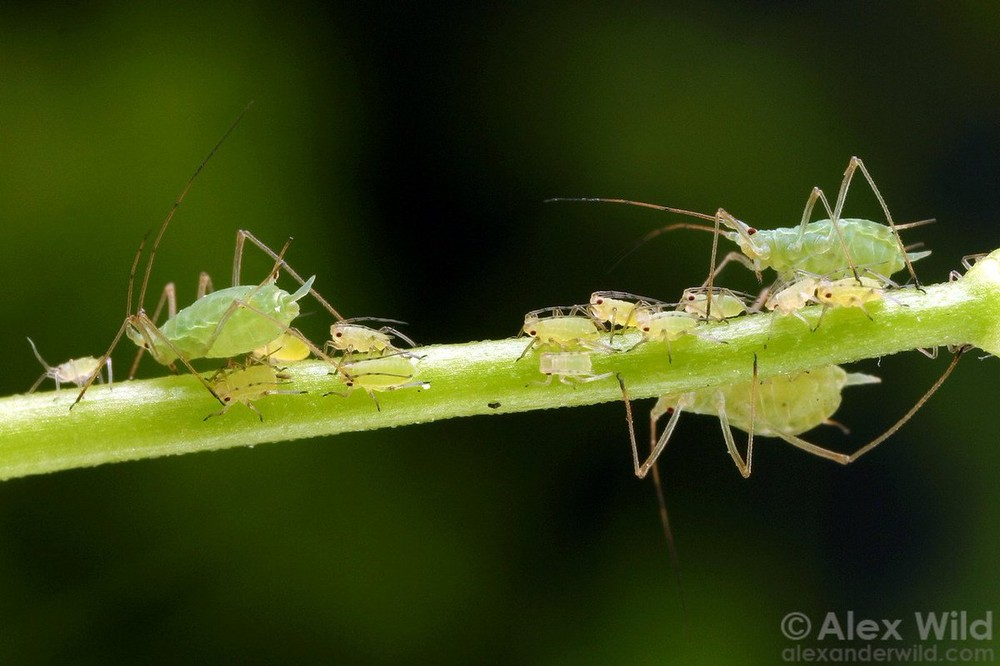Pulgon: (589, 171, 967, 302), (608, 363, 968, 483), (103, 224, 320, 374), (14, 331, 120, 408), (201, 360, 313, 426), (320, 300, 423, 360), (515, 293, 613, 355), (520, 342, 622, 394), (633, 300, 715, 362), (329, 350, 431, 399), (587, 280, 672, 336), (813, 272, 890, 331), (751, 264, 822, 323), (679, 282, 755, 336)
